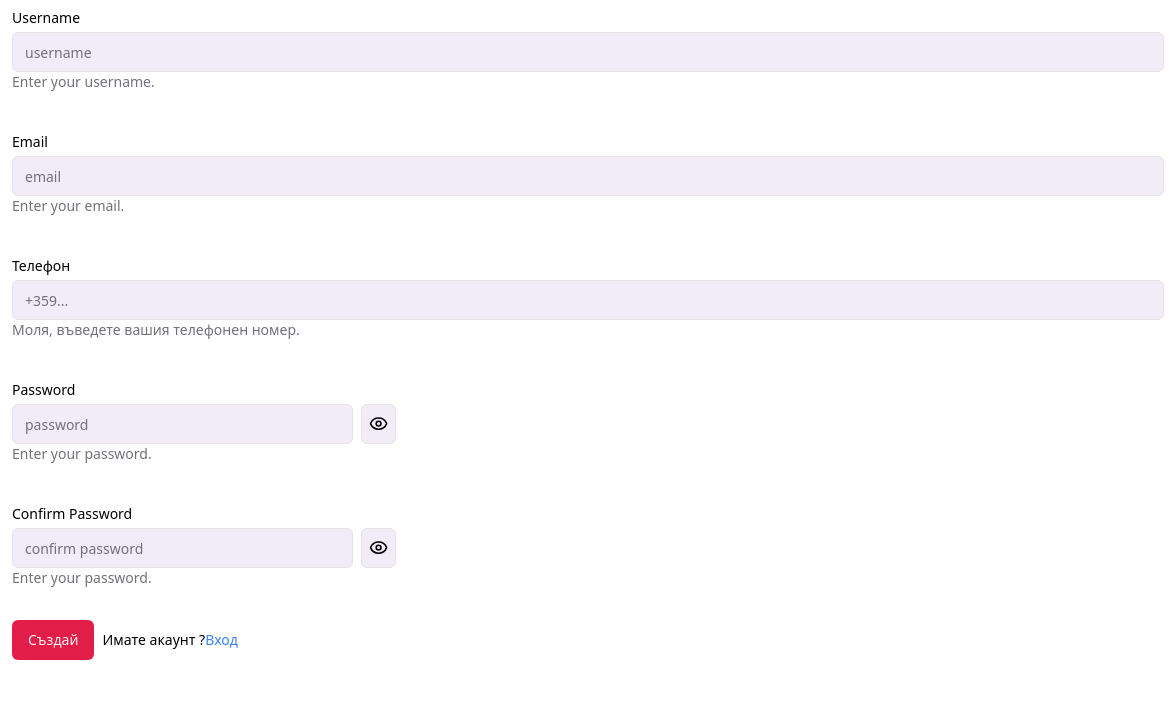
RegisterForm Component › shows validation errors for empty fields
The image size is (1176, 720).
Click the button "Създай": (53, 640) [12,620,94,660]
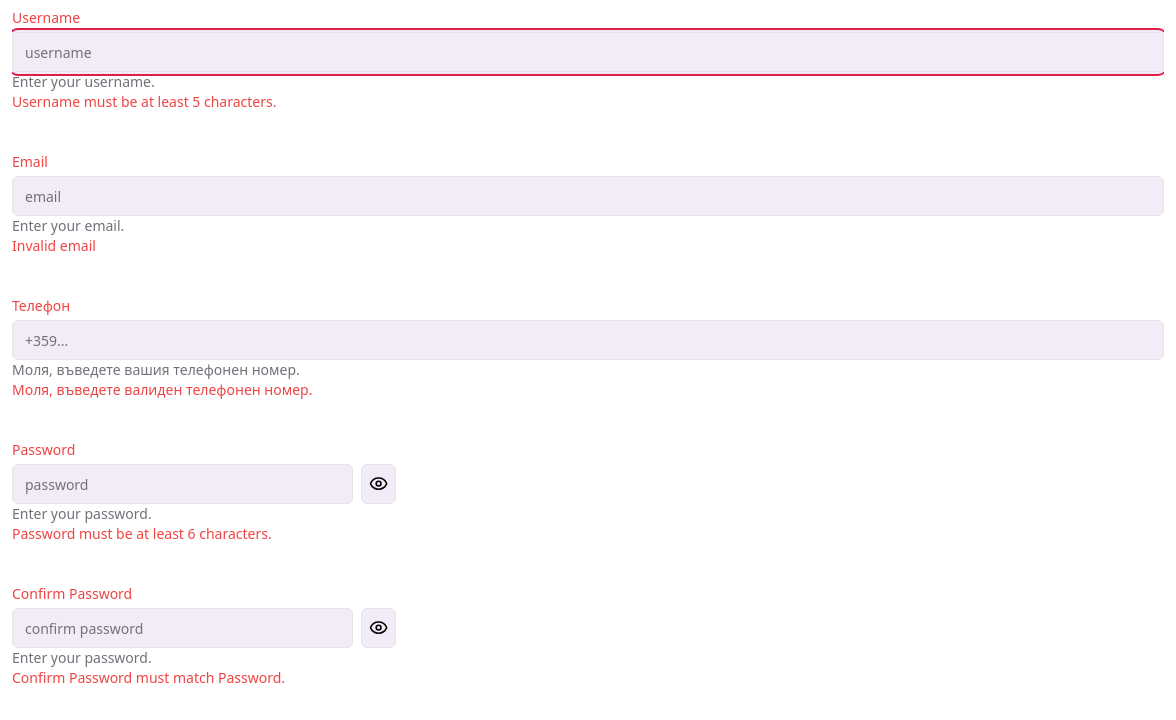
Result: the text "Username must be at least 5 characters." is shown at [12,92,276,111]
Result: the text "Invalid email" is shown at [12,236,96,255]
Result: the text "Password must be at least 6 characters." is shown at [12,524,272,543]
